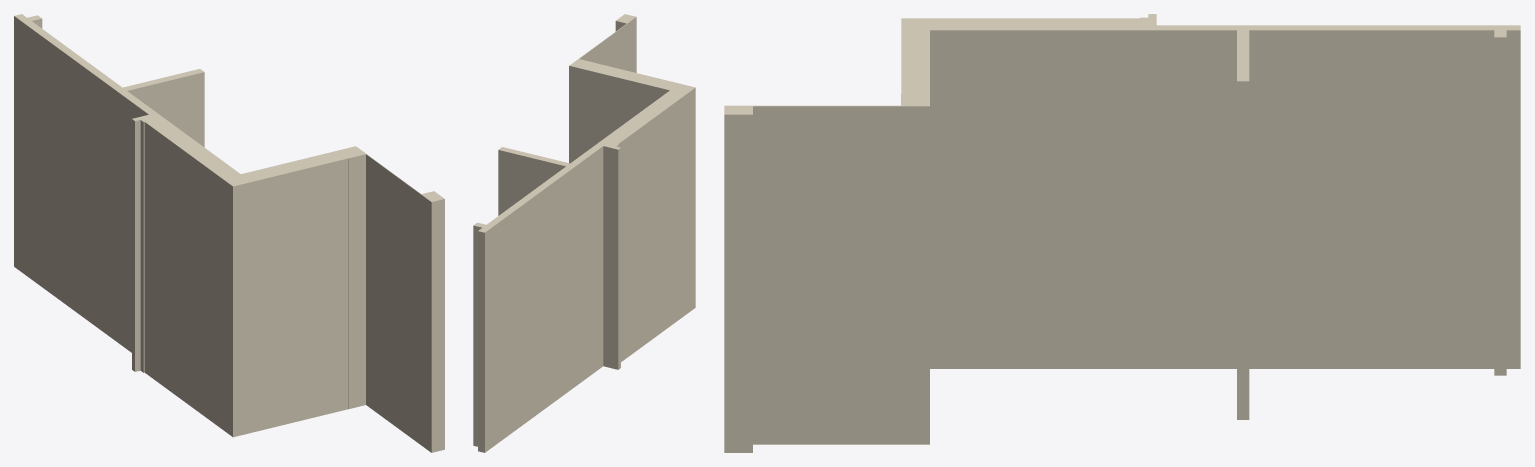
3 views of the same model, side by side, from view 1: azimuth 30°, elevation 25°; view 2: azimuth 150°, elevation 25°; view 3: azimuth 270°, elevation 25° (orthographic). The views are drawn at different scales.
Visible parts, largest first — view 1: A-GF-WALL-015; view 2: A-GF-WALL-015; view 3: A-GF-WALL-015.
Part boxes in pixels (x1=…): A-GF-WALL-015: x1=14, y1=14, x2=444, y2=452; A-GF-WALL-015: x1=473, y1=14, x2=695, y2=452; A-GF-WALL-015: x1=724, y1=14, x2=1520, y2=452.
Size of the model in its own units: 1.73 by 2.72 by 5.8.
